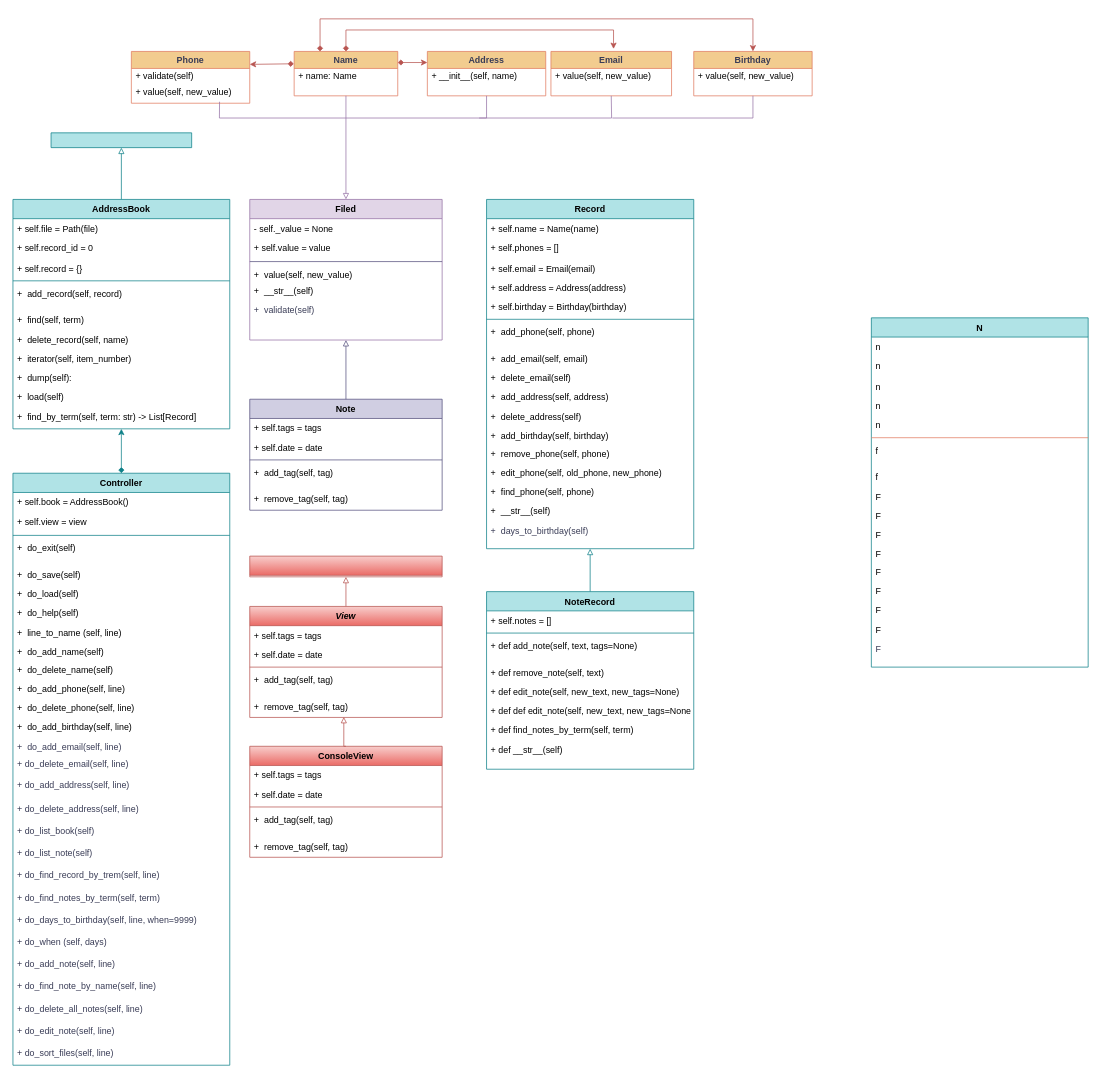
Some shapes in this 1101 by 1080 pixel diagram are drawn without their labels. The centre of each missing label's shape, as x and y in pixels:
"ABC" belongs at point (345, 566).
"UserDict" belongs at point (121, 140).
